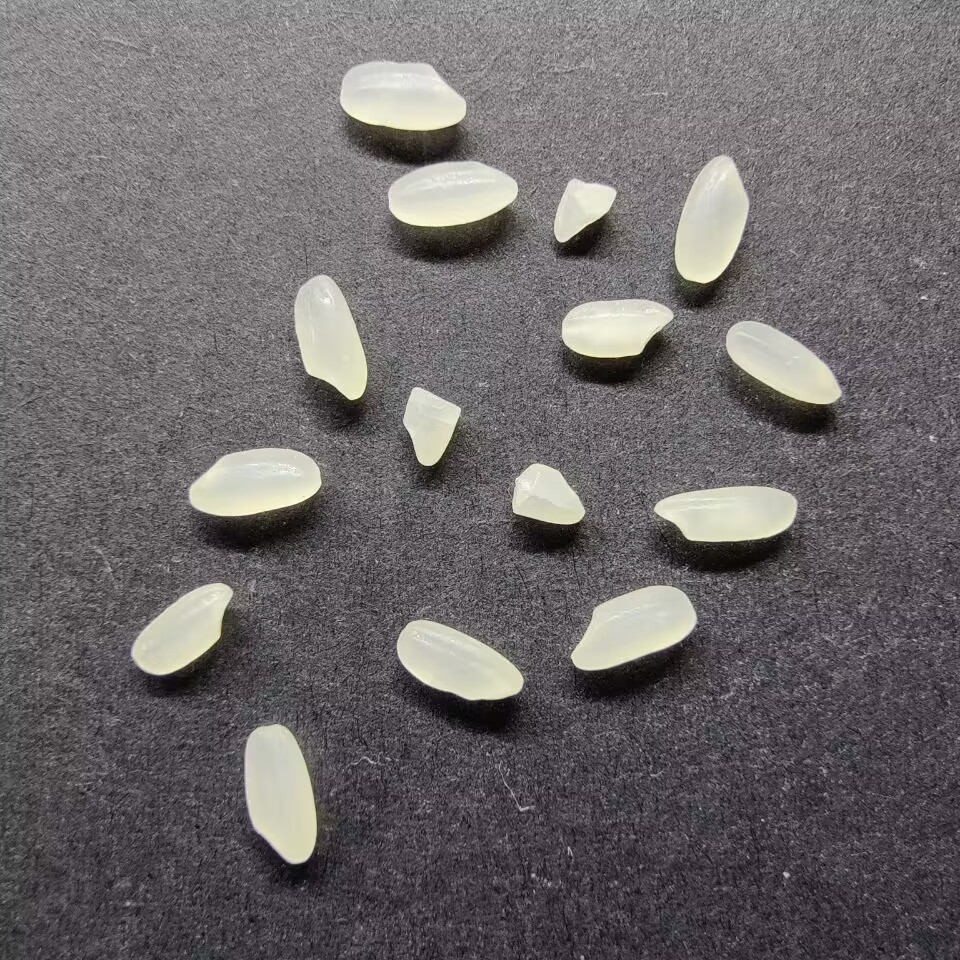broken: (399, 385, 463, 466), (510, 460, 586, 526), (551, 178, 616, 243)
rice: (569, 584, 698, 672), (240, 724, 318, 864), (395, 619, 526, 700), (725, 319, 841, 406), (673, 154, 750, 284), (129, 581, 234, 676), (185, 445, 323, 517), (292, 273, 368, 401), (338, 59, 468, 133), (386, 159, 517, 228), (653, 485, 796, 543), (559, 299, 675, 358)
